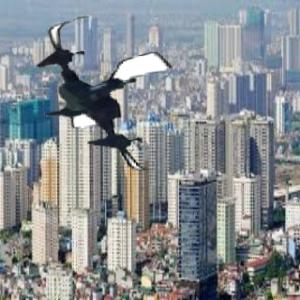drone: (22, 14, 186, 178)
